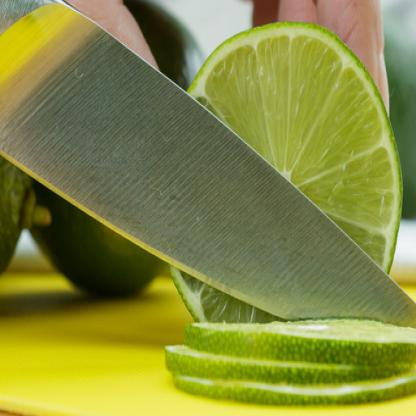knife: (0, 0, 415, 364)
